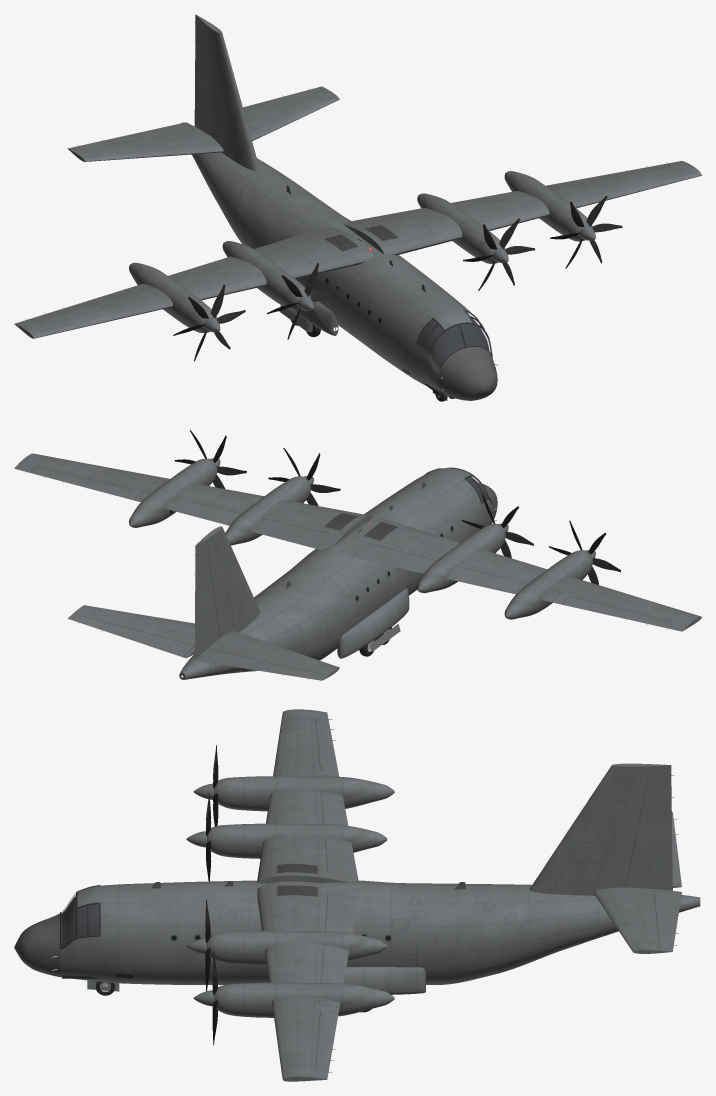
The model's file is military-transport.glb.
3 renders of one model, top to bottom at view 1: azimuth 30°, elevation 25°; view 2: azimuth 150°, elevation 25°; view 3: azimuth 270°, elevation 25°, orthographic. The views are drawn at different scales.
Visible parts, largest first — view 1: wings_tail, fuselage, nacelles_R, nacelles_L, interior, flight_deck_glass, rudder_mesh, flap_R_mesh, propeller_L_outer_mesh, propeller_L_inner_mesh, propeller_R_outer_mesh, propeller_R_inner_mesh (+4 smaller); view 2: wings_tail, fuselage, nacelles_R, nacelles_L, flap_R_mesh, flap_L_mesh, rudder_mesh, sponsons, elevator_L_mesh, elevator_R_mesh, aileron_R_mesh, aileron_L_mesh (+4 smaller); view 3: fuselage, wings_tail, nacelles_L, nacelles_R, rudder_mesh, flap_L_mesh, sponsons, flap_R_mesh, interior, elevator_L_mesh, flight_deck_glass, ramp_mesh (+6 smaller).
Part boxes in pixels (x1,y1,x2,y2): wings_tail: (14,14,701,338); fuselage: (181,122,497,400); nacelles_R: (129,241,310,333); nacelles_L: (417,171,592,263); interior: (417,315,489,395); flight_deck_glass: (417,312,490,366); rudder_mesh: (194,19,211,136); flap_R_mesh: (134,230,328,289); propeller_L_outer_mesh: (550,196,622,268); propeller_L_inner_mesh: (463,218,535,290); propeller_R_outer_mesh: (173,285,245,361); propeller_R_inner_mesh: (267,263,339,339); wings_tail: (14,453,701,680); fuselage: (179,468,497,679); nacelles_R: (417,523,592,619); nacelles_L: (129,458,311,545); flap_R_mesh: (353,543,559,602); flap_L_mesh: (134,491,328,548); rudder_mesh: (194,544,219,656); sponsons: (337,588,409,658); elevator_L_mesh: (71,614,194,656); elevator_R_mesh: (199,650,323,679); aileron_R_mesh: (562,596,670,627); aileron_L_mesh: (30,467,131,497); fuselage: (14,880,700,984); wings_tail: (257,709,681,1081); nacelles_L: (207,930,394,1017); nacelles_R: (207,776,394,858); rudder_mesh: (625,770,672,889); flap_L_mesh: (319,892,357,1007); sponsons: (343,967,425,994); flap_R_mesh: (319,774,357,877); interior: (61,896,98,978); elevator_L_mesh: (654,891,681,949); flight_deck_glass: (61,894,98,946); ramp_mesh: (458,934,599,982).
Bounding box in the file's own units: 38 × 10.95 × 30.07.
23 materials, 1 textured.
